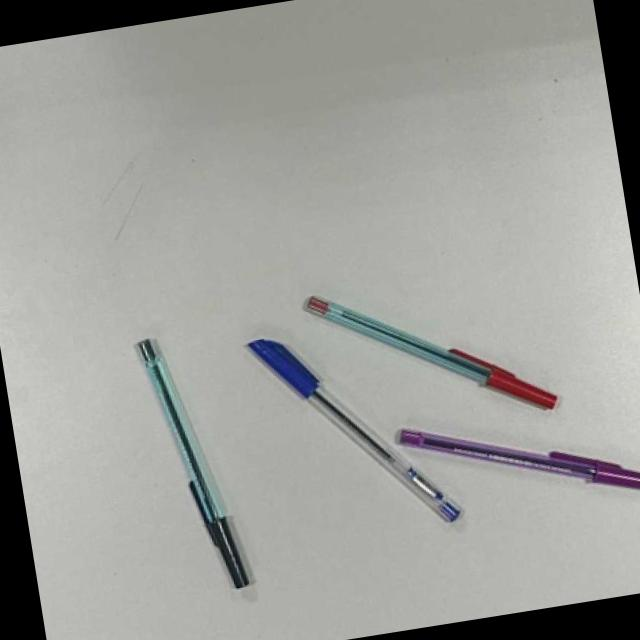caneta: (246, 326, 462, 530), (131, 337, 254, 591), (307, 290, 561, 413), (398, 421, 640, 492)
